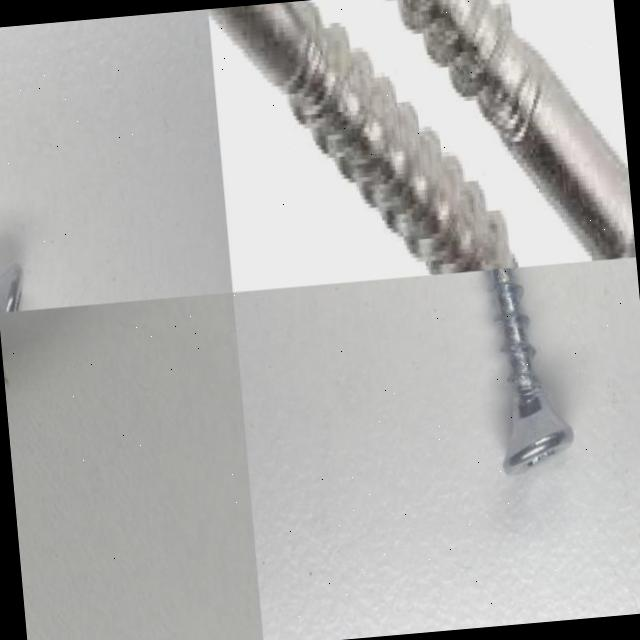Screw: (208, 0, 520, 275), (390, 0, 636, 261), (490, 267, 573, 476)
